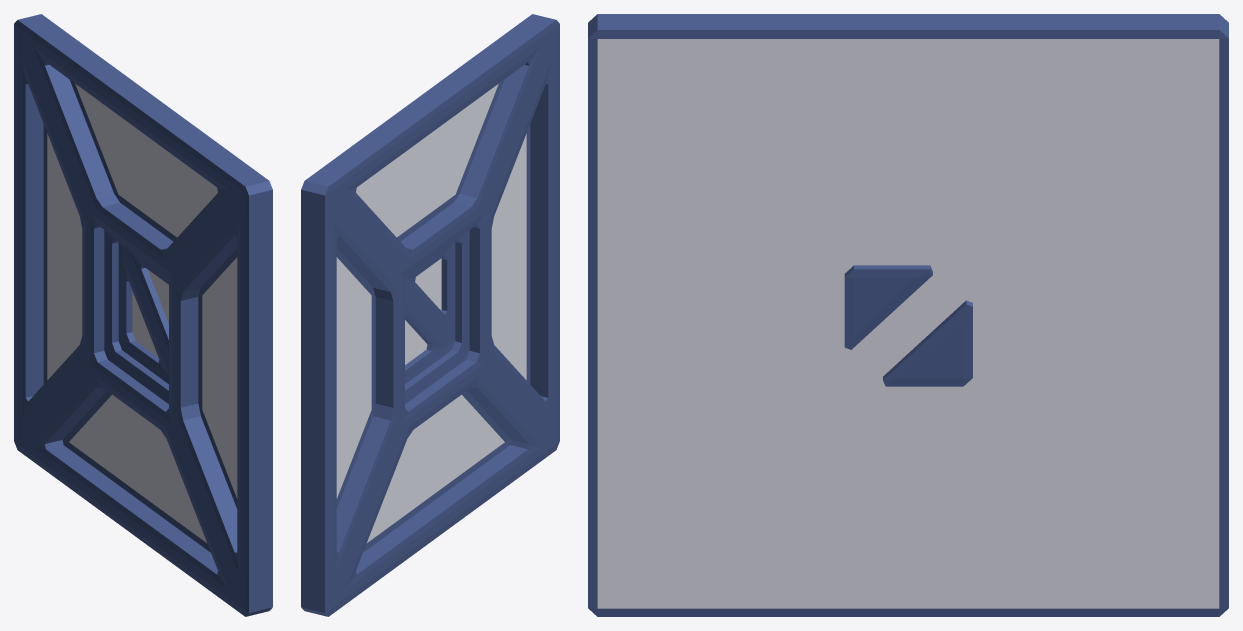
File: Tile2.fbx
3 renders of one model, left to right at view 1: azimuth 30°, elevation 25°; view 2: azimuth 150°, elevation 25°; view 3: azimuth 270°, elevation 25°, orthographic. The views are drawn at different scales.
Visible parts, largest first — view 1: Tile3; view 2: Tile3; view 3: Tile3.
Part boxes in pixels (x1,y1,x2,y2): Tile3: [14, 14, 272, 616]; Tile3: [301, 14, 559, 616]; Tile3: [588, 14, 1228, 616].
Size of the model in its own units: 840 by 11120 by 11001.
